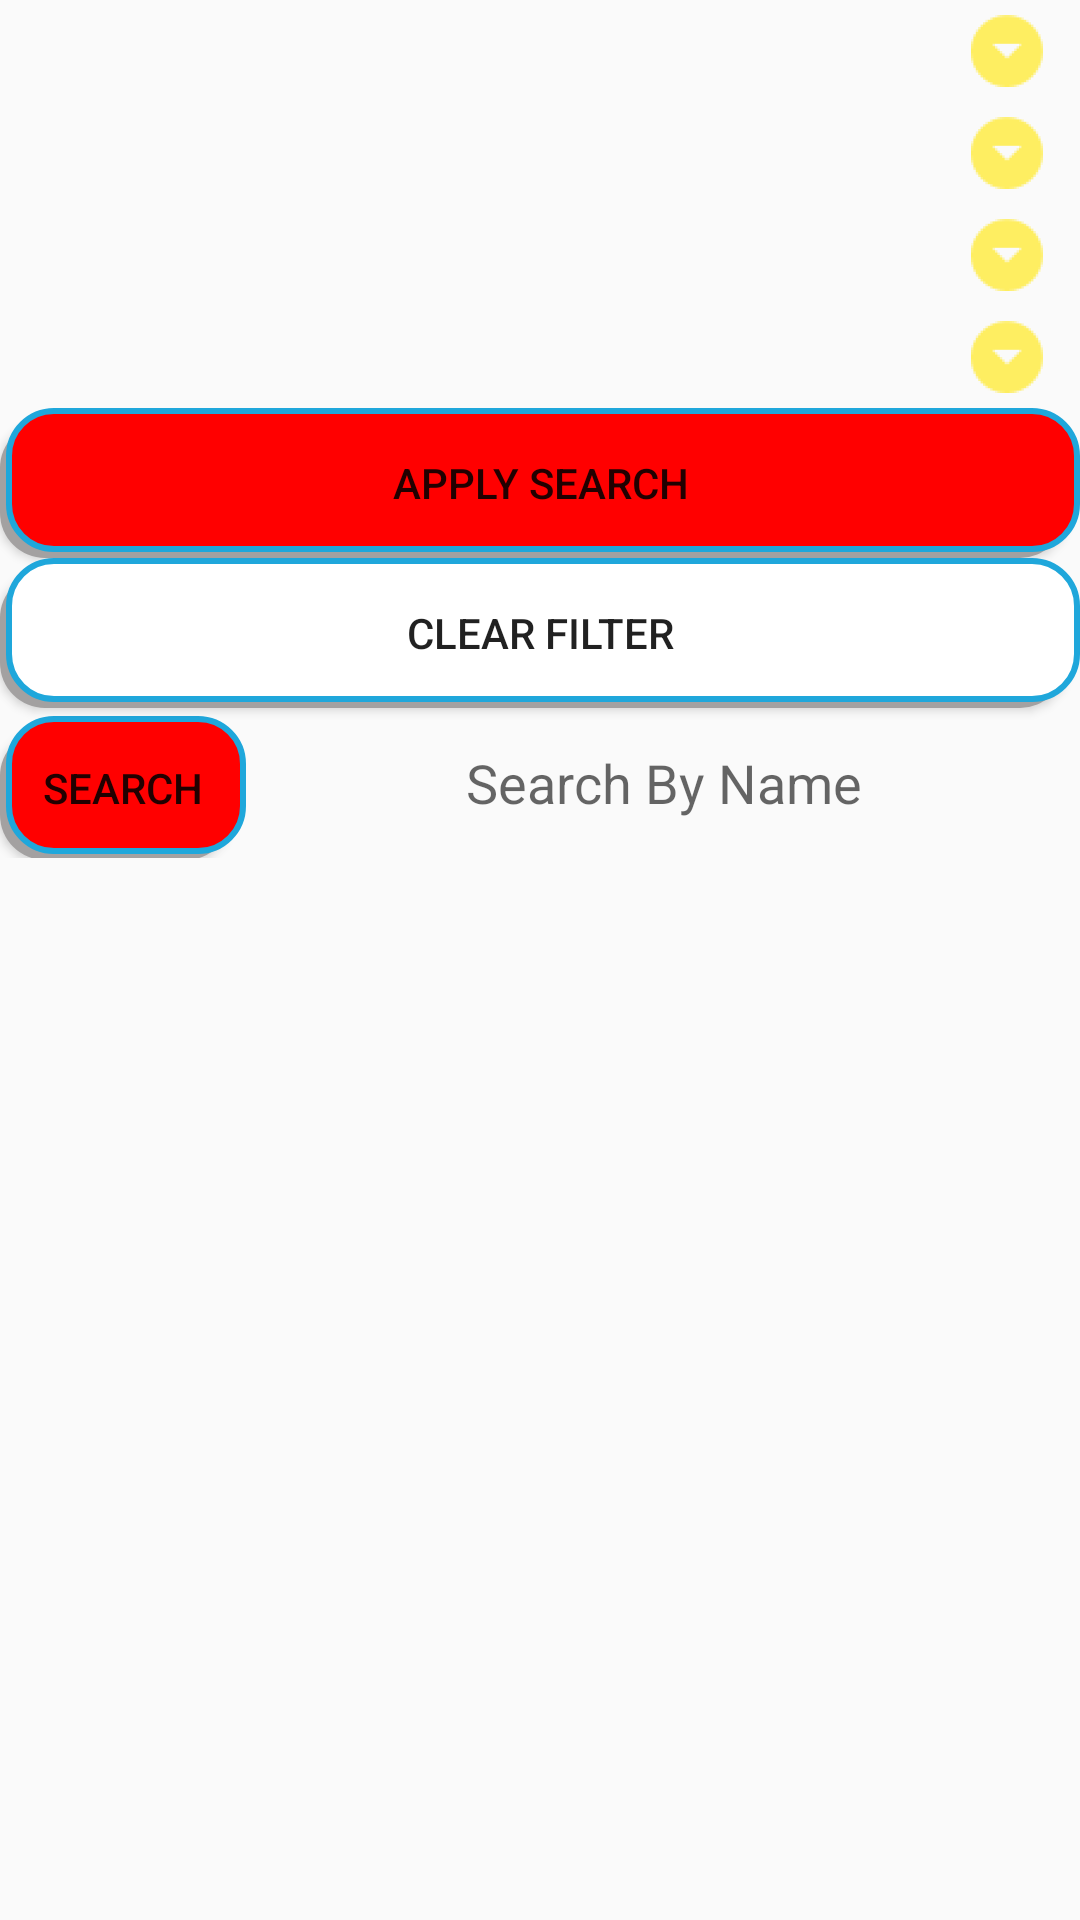

Screen size 1080 x 1920. Icon name, then its center in pixels as point (x, y):
dropdown: point (1007, 51), point (1007, 153), point (1007, 255), point (1007, 357)
